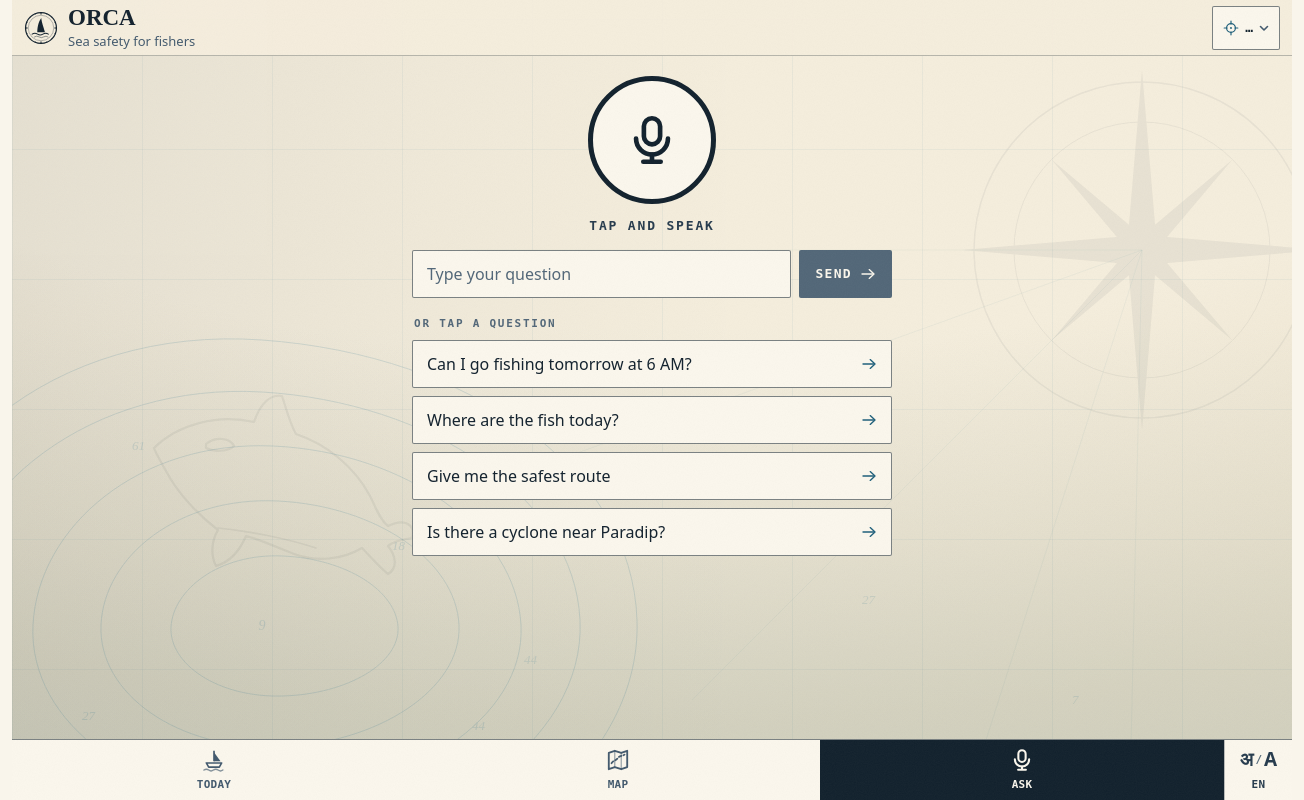
it: the phone's Ask tab › asks a rehearsed question on tap, and offers a retry when the crew is out of reach
The image size is (1304, 800).
Click the button "Where are the fish today?".
click(523, 420)  # box [412,396,892,444]
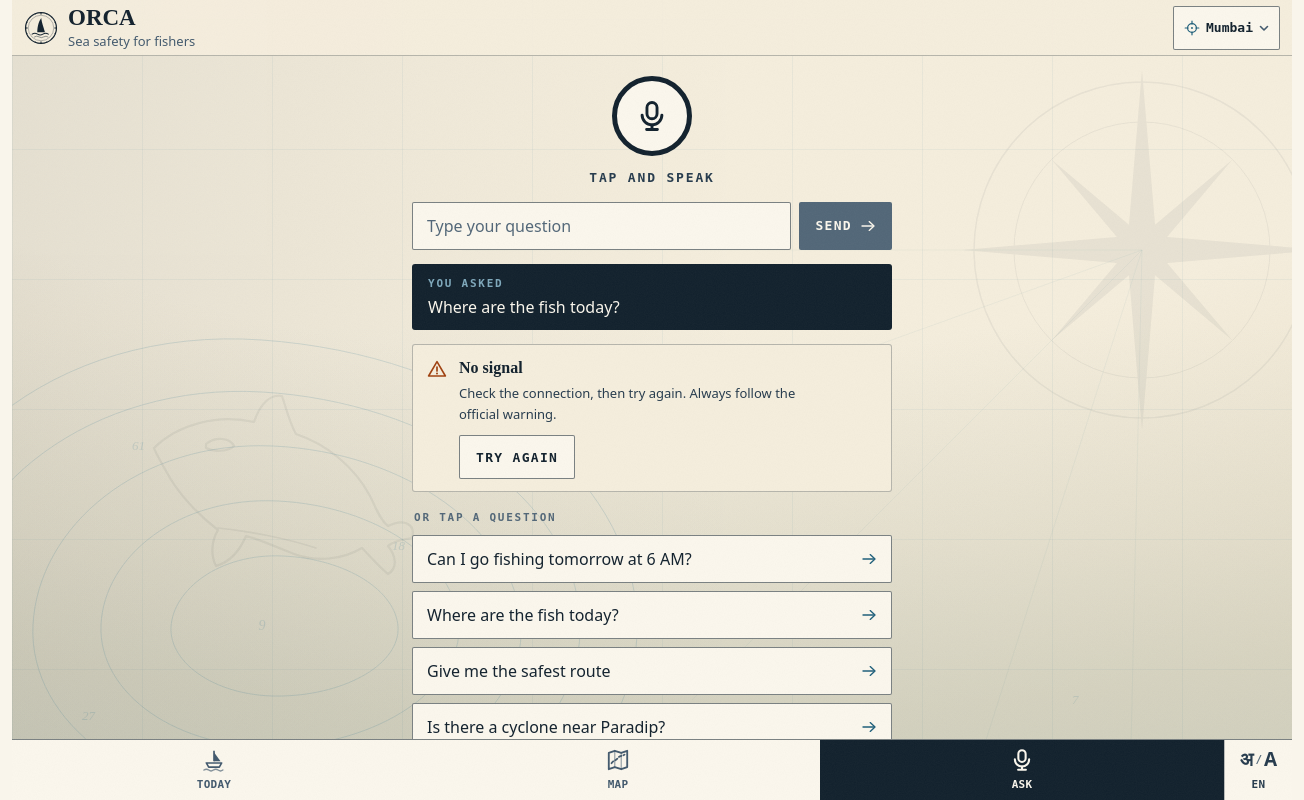
Click the button "Try again".
click(517, 457)  # box [459,435,575,479]
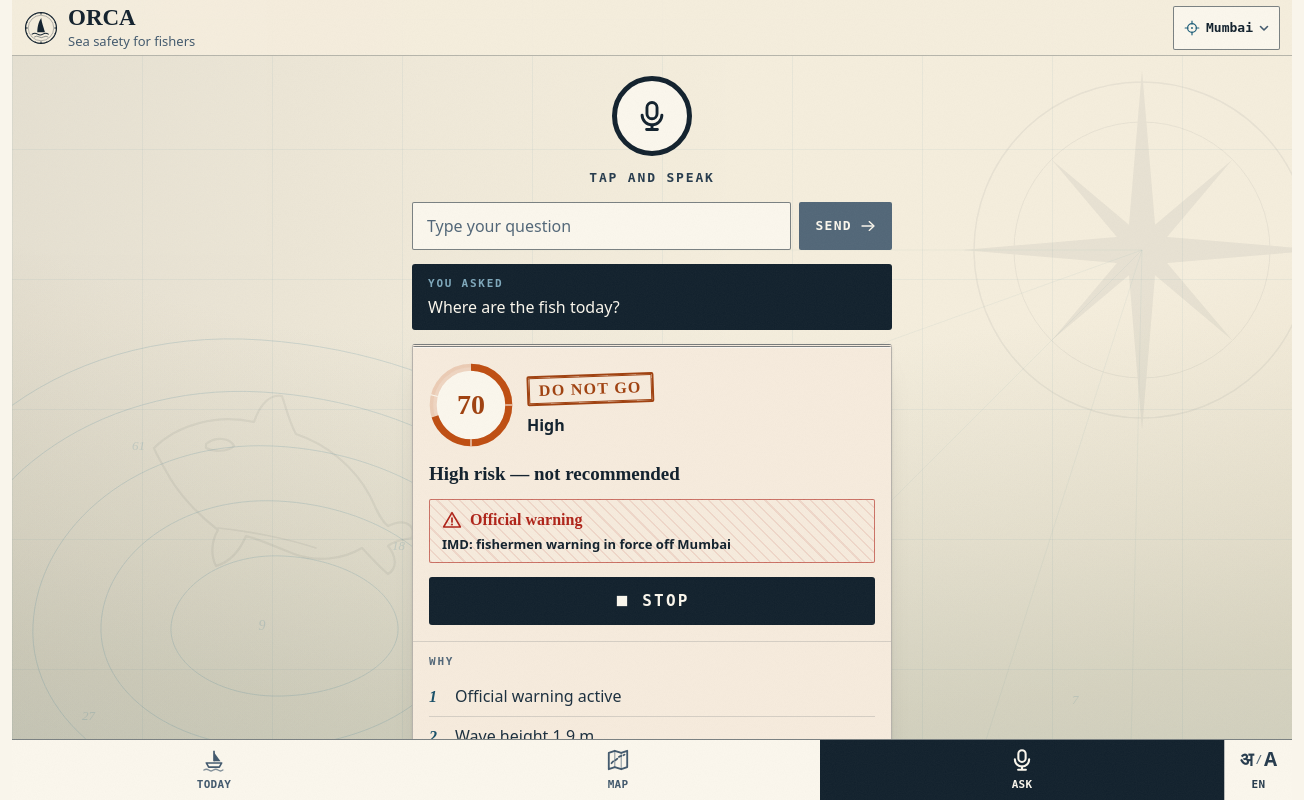
Result: the text "Do not go" is shown at [526,372,654,406]
